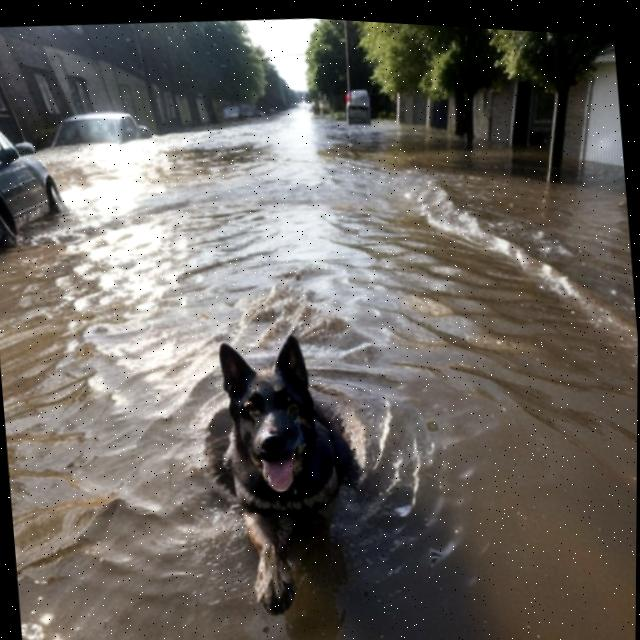dog: (160, 319, 388, 635)
